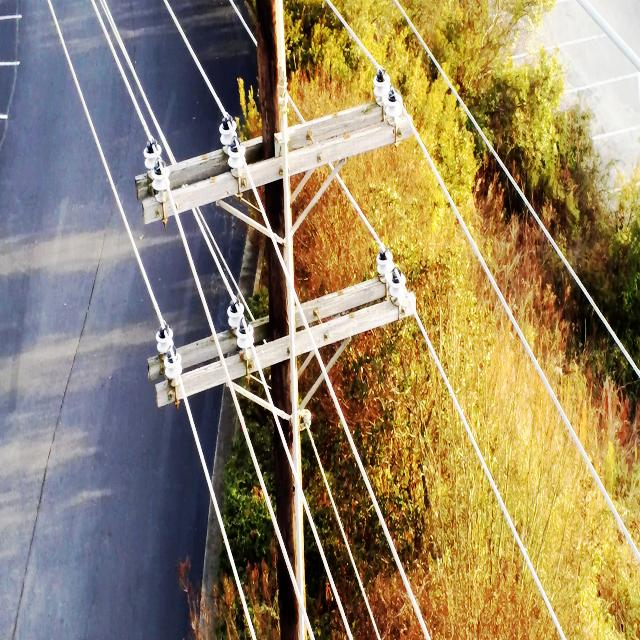poles: (136, 0, 415, 640)
wires: (400, 98, 640, 561), (394, 0, 640, 380), (412, 310, 566, 640), (48, 0, 166, 327), (310, 339, 431, 640), (173, 210, 280, 545), (306, 426, 381, 640), (182, 398, 239, 583), (325, 0, 383, 71), (337, 179, 387, 250), (323, 559, 353, 640), (303, 500, 325, 559), (229, 0, 257, 46), (100, 19, 120, 65), (291, 289, 310, 331), (240, 591, 256, 640), (289, 98, 310, 129), (284, 557, 299, 599)
